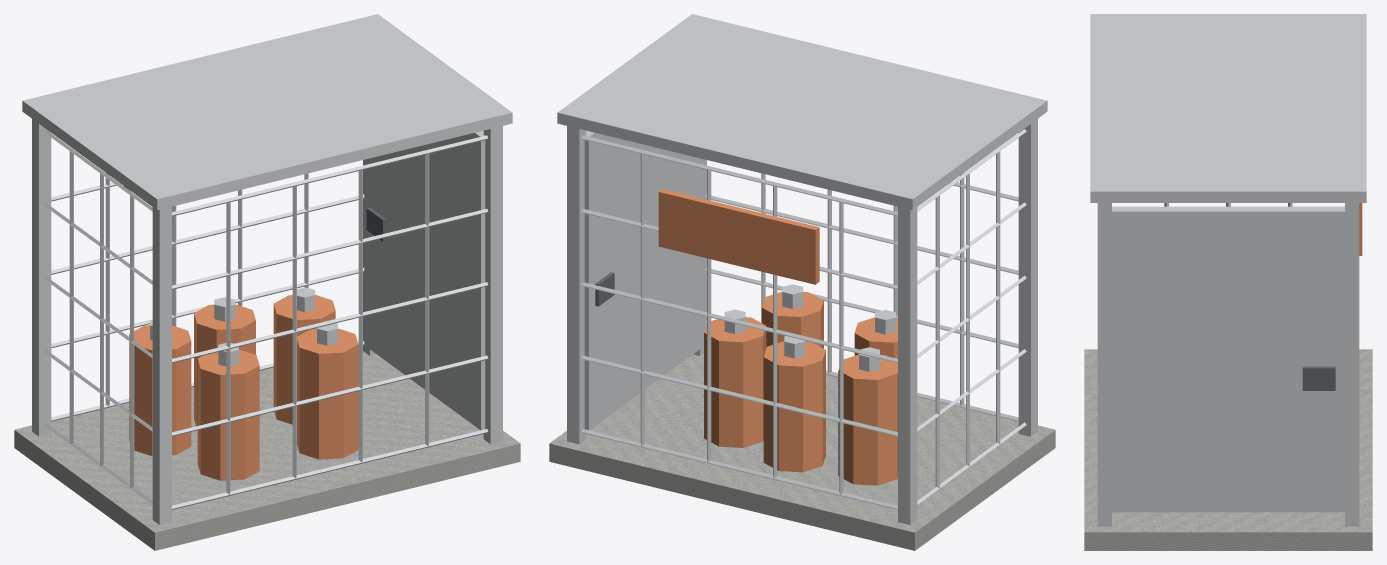
File: caravan-park-and-campsite-gas-bottle-cage-44ac181f__35374.glb
3 renders of one model, left to right at view 1: azimuth 30°, elevation 25°; view 2: azimuth 150°, elevation 25°; view 3: azimuth 270°, elevation 25°, orthographic. The views are drawn at different scales.
Parts seen in each view (by area): view 1: gas-bottle-cage-galv, gas-bottle-cage-hard, door/galv, gas-bottle-cage-flame; view 2: gas-bottle-cage-galv, gas-bottle-cage-hard, gas-bottle-cage-flame, door/galv; view 3: door/galv, gas-bottle-cage-galv, gas-bottle-cage-hard, door/charcoal.
Part boxes in pixels (bbox=[...]): gas-bottle-cage-galv: bbox=[22, 14, 512, 524]; gas-bottle-cage-hard: bbox=[14, 351, 520, 550]; door/galv: bbox=[364, 130, 485, 430]; gas-bottle-cage-flame: bbox=[124, 186, 358, 480]; gas-bottle-cage-galv: bbox=[557, 14, 1047, 524]; gas-bottle-cage-hard: bbox=[549, 353, 1055, 550]; gas-bottle-cage-flame: bbox=[658, 189, 897, 485]; door/galv: bbox=[584, 130, 705, 430]; door/galv: bbox=[1112, 206, 1344, 512]; gas-bottle-cage-galv: bbox=[1090, 14, 1366, 526]; gas-bottle-cage-hard: bbox=[1084, 349, 1372, 550]; door/charcoal: bbox=[1302, 366, 1335, 390].
Size of the model in its own units: 2.1 by 1.91 by 1.4.
Materials: 4 (1 with a texture image).
